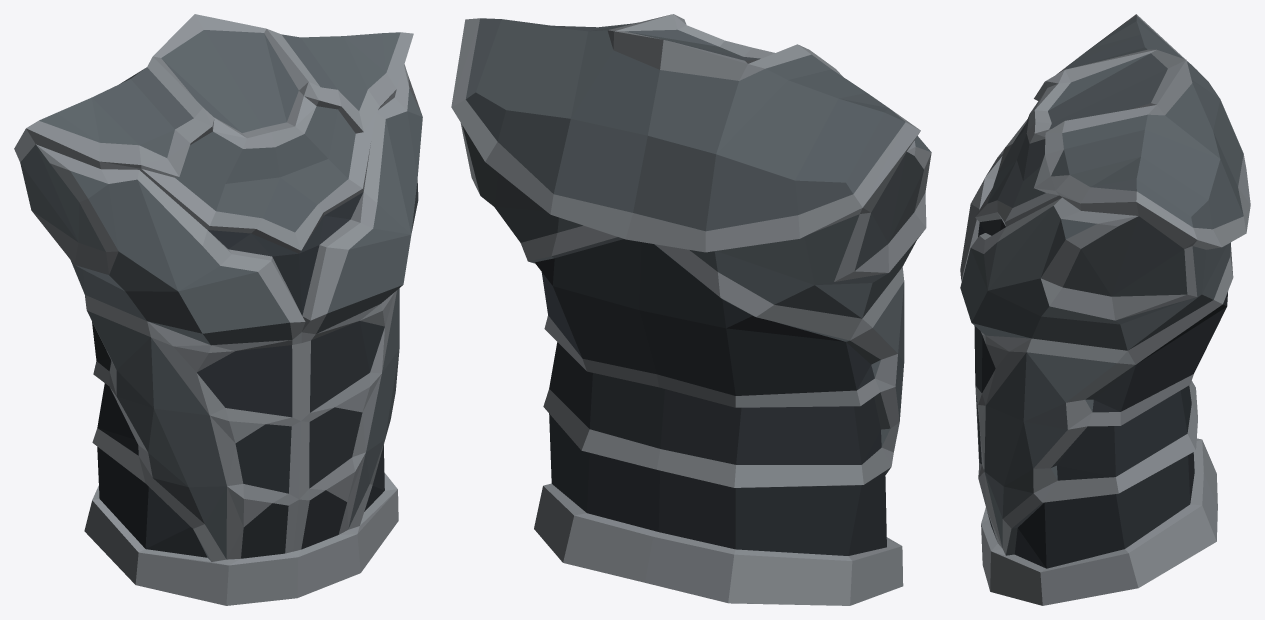
The model's file is Chr_Torso_Male_16_Static.fbx.
3 renders of one model, left to right at view 1: azimuth 30°, elevation 25°; view 2: azimuth 150°, elevation 25°; view 3: azimuth 270°, elevation 25°, orthographic. The views are drawn at different scales.
Visible parts, largest first — view 1: Chr_Torso_Male_16_Static; view 2: Chr_Torso_Male_16_Static; view 3: Chr_Torso_Male_16_Static.
Boxes of the visible parts, x1,y1,x2,y2 form: Chr_Torso_Male_16_Static: [14, 14, 422, 605]; Chr_Torso_Male_16_Static: [451, 14, 931, 605]; Chr_Torso_Male_16_Static: [960, 14, 1250, 605].
Size of the model in its own units: 0.524 by 0.6571 by 0.3423.
